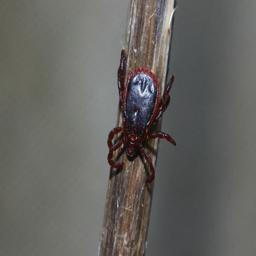Rhipicephalus sanguineus: (106, 50, 176, 182)
